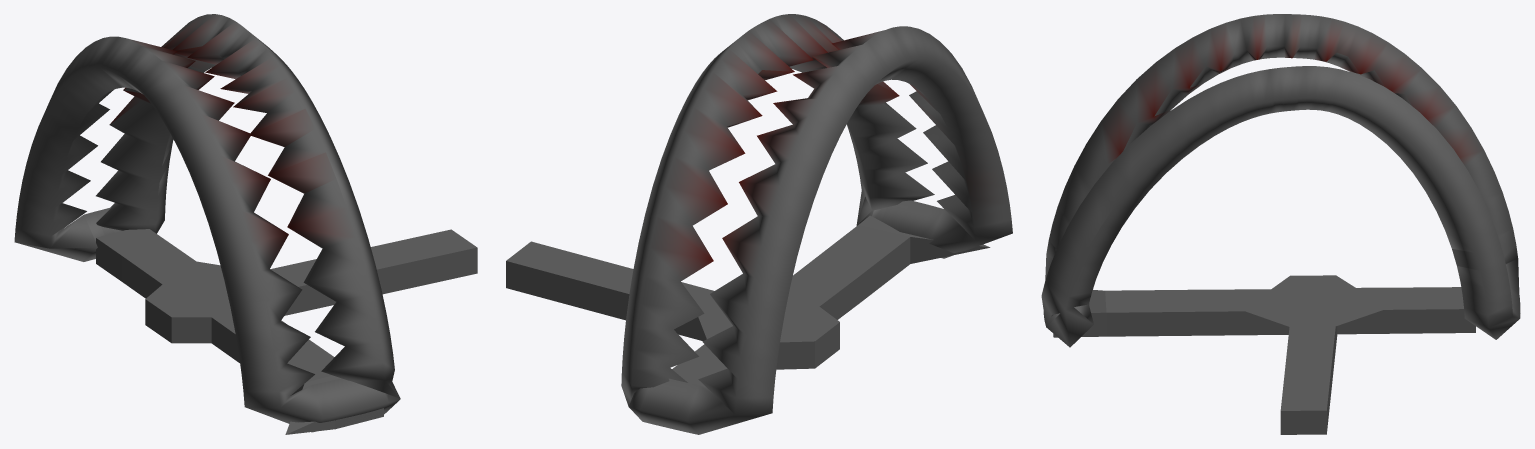
Rendered from Trap(Closed)_placehold.fbx.
3 views of the same model, side by side, from view 1: azimuth 30°, elevation 25°; view 2: azimuth 150°, elevation 25°; view 3: azimuth 270°, elevation 25° (orthographic). The views are drawn at different scales.
Visible parts, largest first — view 1: NurbsPath; view 2: NurbsPath; view 3: NurbsPath.
Part boxes in pixels (box(x1,y1,x2,y2)): NurbsPath: box(14, 14, 477, 434); NurbsPath: box(506, 14, 1012, 434); NurbsPath: box(1041, 14, 1520, 434).
Size of the model in its own units: 305 by 257 by 396.
